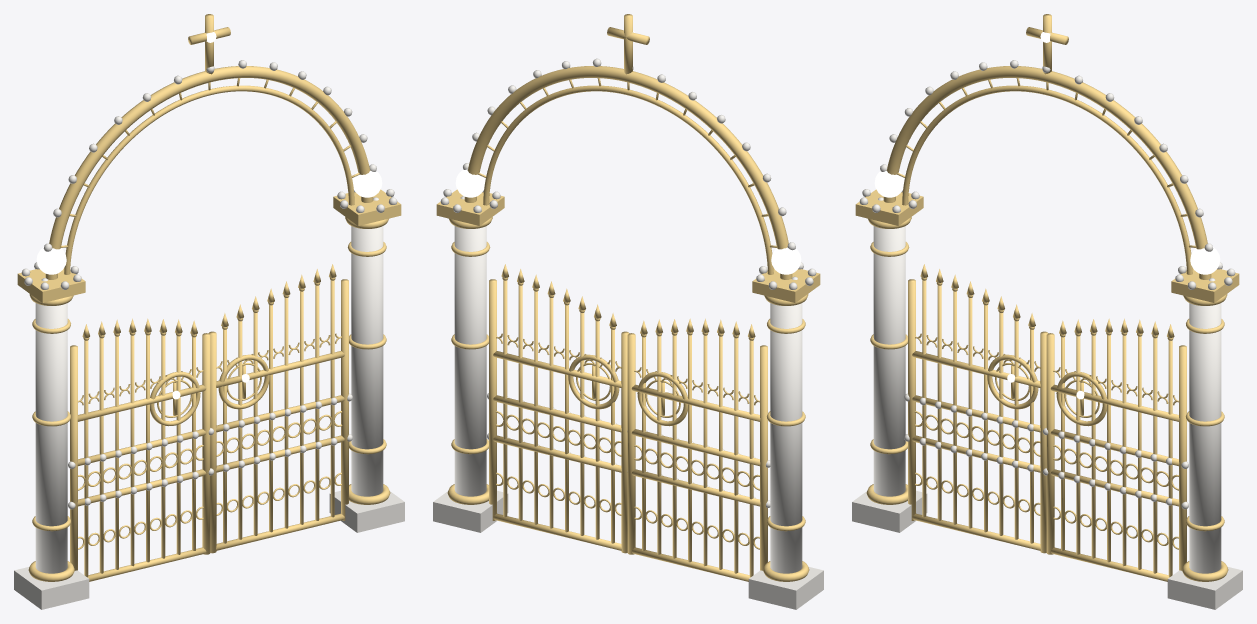
Rendered from gates.glb.
3 renders of one model, left to right at view 1: azimuth 30°, elevation 25°; view 2: azimuth 150°, elevation 25°; view 3: azimuth 330°, elevation 25°, orthographic.
Parts seen in each view (by area): view 1: Frame, Gate_L, Gate_R; view 2: Frame, Gate_L, Gate_R; view 3: Frame, Gate_R, Gate_L.
Part boxes in pixels (x1=…): Frame: x1=14, y1=14, x2=404, y2=609; Gate_L: x1=68, y1=318, x2=213, y2=581; Gate_R: x1=208, y1=264, x2=352, y2=553; Frame: x1=433, y1=14, x2=823, y2=609; Gate_L: x1=627, y1=318, x2=770, y2=581; Gate_R: x1=487, y1=264, x2=629, y2=553; Frame: x1=852, y1=14, x2=1242, y2=609; Gate_R: x1=1043, y1=318, x2=1188, y2=581; Gate_L: x1=904, y1=264, x2=1048, y2=553.
Bounding box in the file's own units: 4.79 × 6.7 × 0.7.
